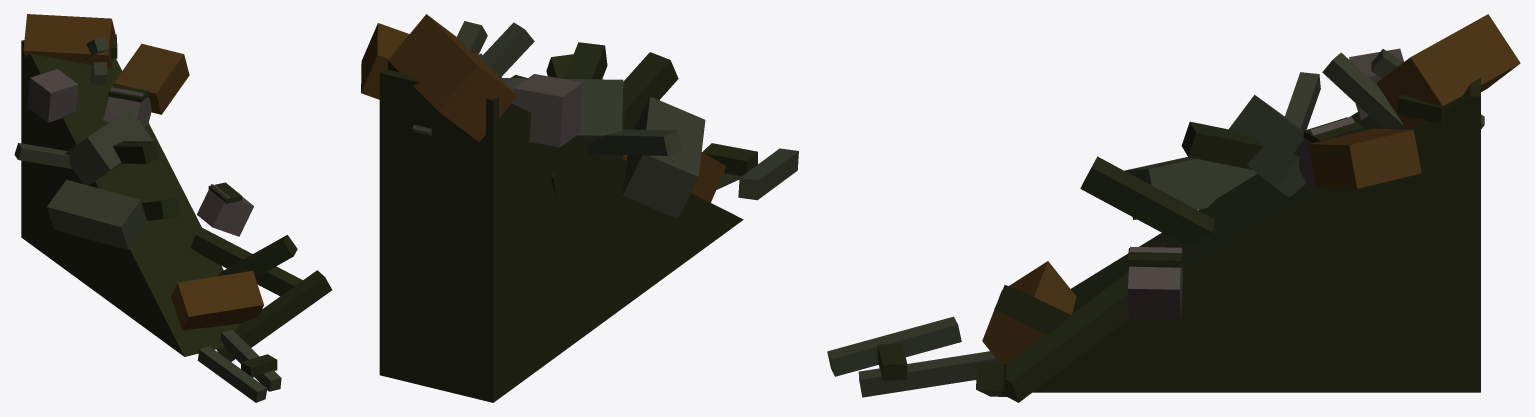
The model's file is SM_PilaZombi_Altura2_s0_LOD0.fbx.
3 views of the same model, side by side, from view 1: azimuth 30°, elevation 25°; view 2: azimuth 150°, elevation 25°; view 3: azimuth 270°, elevation 25° (orthographic). The views are drawn at different scales.
Visible parts, largest first — view 1: SM_pila_zombis_v1_LOD0; view 2: SM_pila_zombis_v1_LOD0; view 3: SM_pila_zombis_v1_LOD0.
Boxes of the visible parts, left/top/right/bottom form: SM_pila_zombis_v1_LOD0: left=14, top=14, right=332, bottom=402; SM_pila_zombis_v1_LOD0: left=361, top=14, right=798, bottom=402; SM_pila_zombis_v1_LOD0: left=827, top=14, right=1520, bottom=402.
Bounding box in the file's own units: 1.45 × 1.59 × 2.81.
